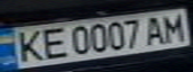0: (66, 22, 90, 55), (87, 21, 109, 53), (106, 18, 127, 51)
7: (121, 16, 145, 48)
A: (142, 14, 169, 45)
E: (36, 25, 69, 61)
K: (9, 27, 48, 64)
M: (157, 11, 190, 43)
